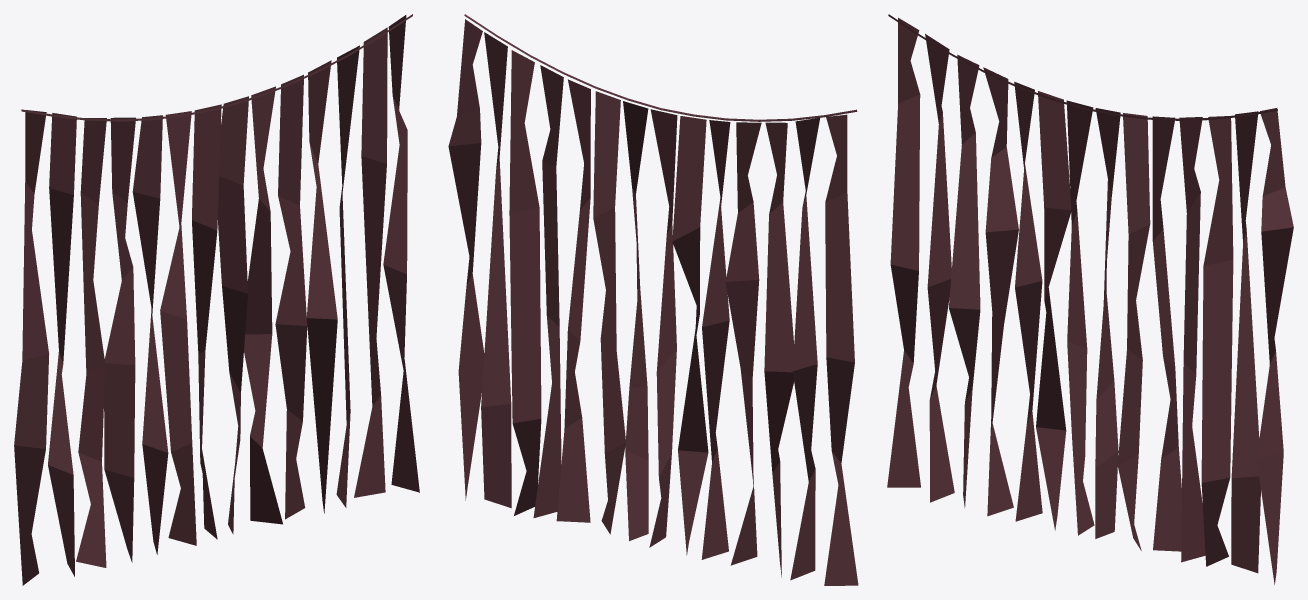
File: celebration-wall-mix-big.fbx
The picture shows the model from 3 angles, left to right: view 1: azimuth 30°, elevation 25°; view 2: azimuth 150°, elevation 25°; view 3: azimuth 330°, elevation 25°; orthographic projection.
Parts seen in each view (by area): view 1: celebration-wall-mix-big; view 2: celebration-wall-mix-big; view 3: celebration-wall-mix-big.
Boxes of the visible parts, left/top/right/bottom form: celebration-wall-mix-big: left=14, top=14, right=419, bottom=585; celebration-wall-mix-big: left=448, top=14, right=858, bottom=585; celebration-wall-mix-big: left=887, top=14, right=1293, bottom=584.
Size of the model in its own units: 2.54 by 2.9 by 0.2288.
